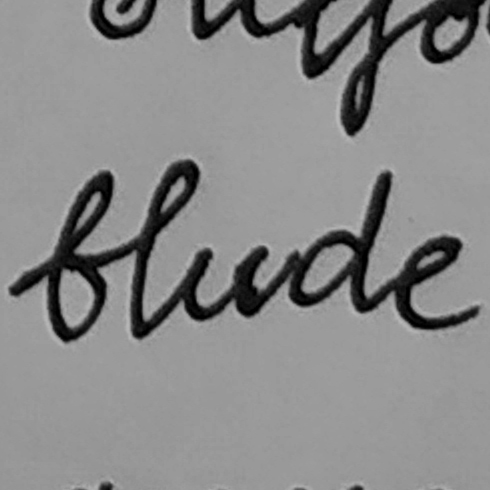b: (42, 165, 118, 346)
d: (282, 163, 395, 320)
e: (388, 232, 481, 333)
l: (122, 152, 204, 342)
u: (174, 237, 272, 327)
